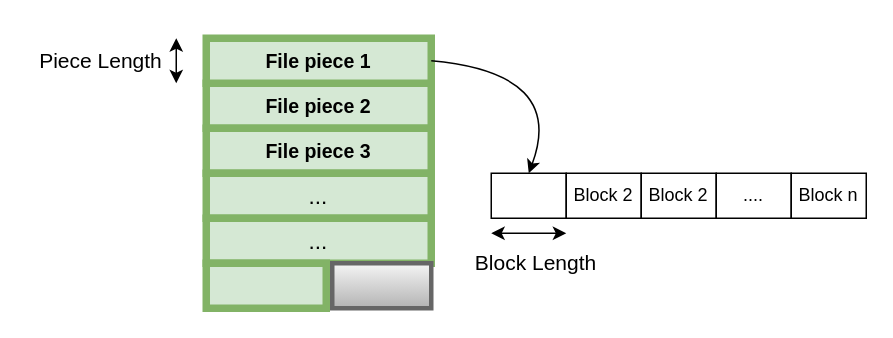
The diagram is 893 pixels wide and 338 high, and some of its shapes have lost their labels. The shapes that lost their labels are listed below. From the top down, each one's centre as x and y in pixels, then its label:
At pixel 528 195: "Block 1".
At pixel 265 285: "File piece n".
